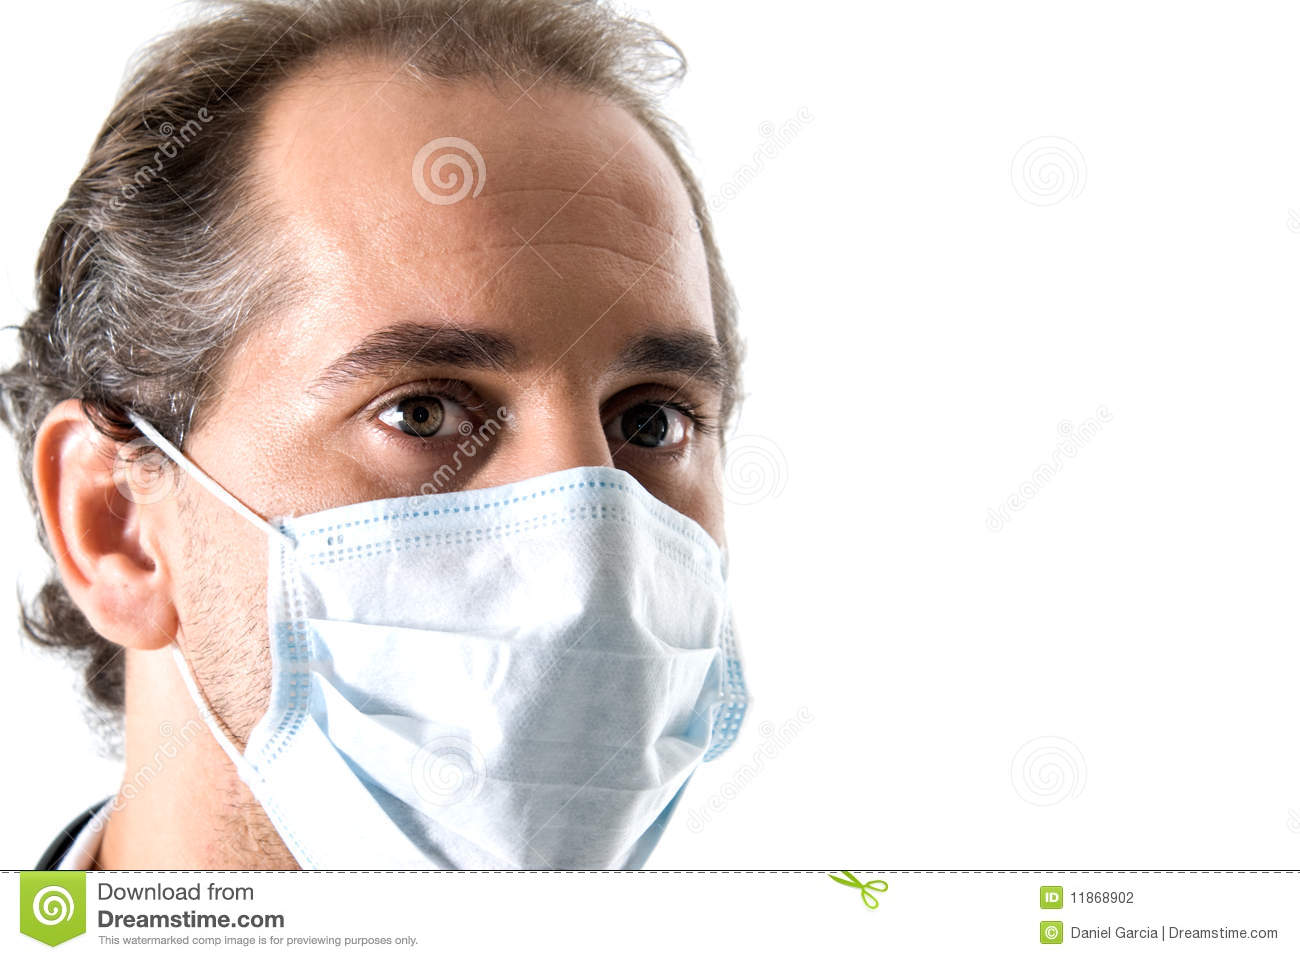mask: (243, 473, 749, 867)
